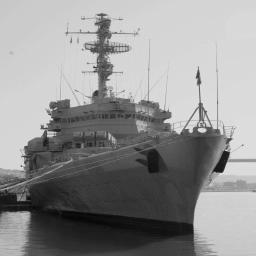Portanaves: (12, 9, 239, 237)
